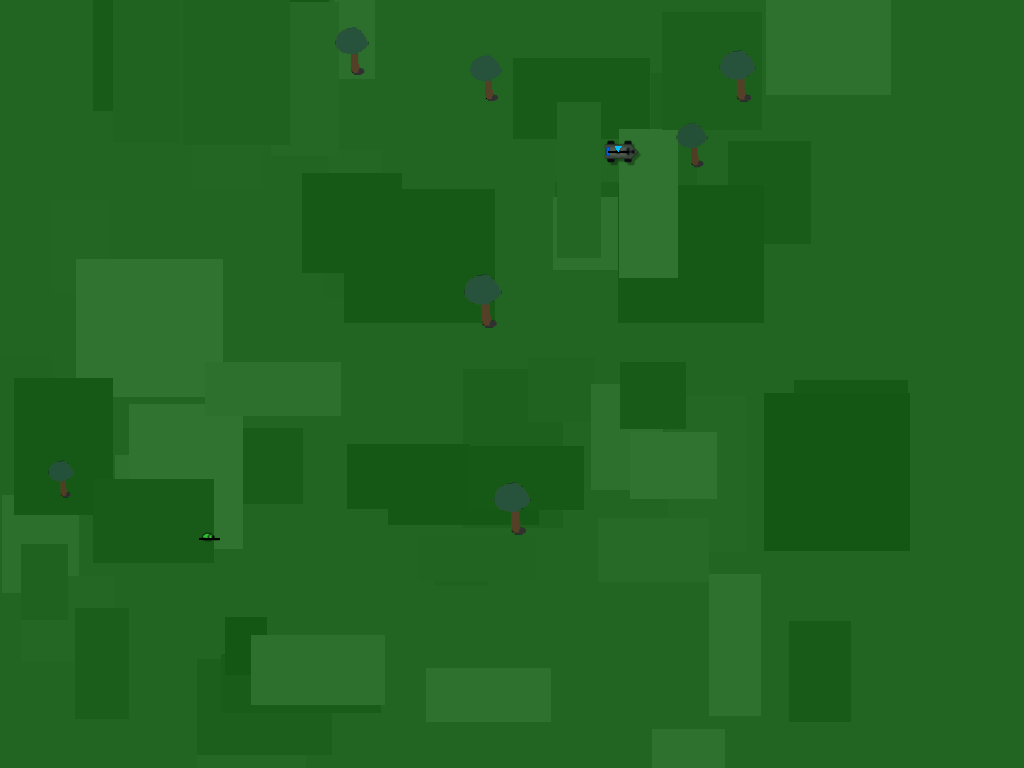ArmoredCar: (601, 134, 634, 167)
Sniper: (194, 522, 223, 551)
